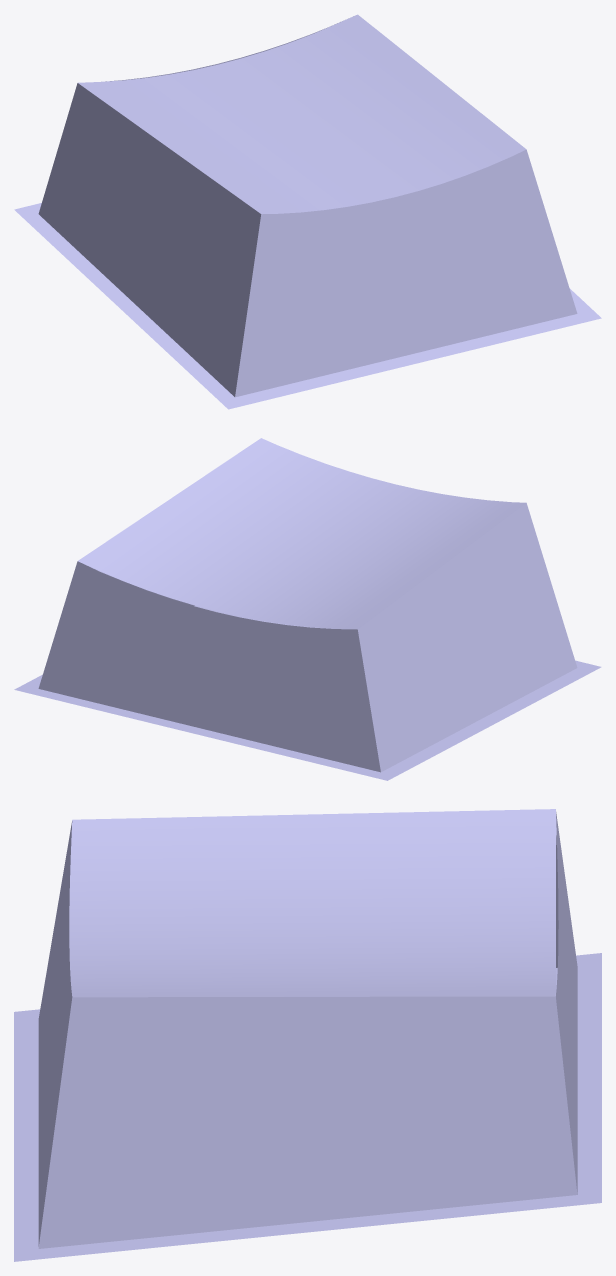
The model's file is original-68.obj.
The picture shows the model from 3 angles, top to bottom: view 1: azimuth 30°, elevation 25°; view 2: azimuth 150°, elevation 25°; view 3: azimuth 270°, elevation 25°; orthographic projection. The views are drawn at different scales.
Parts seen in each view (by area): view 1: kb_key3_13/kb_key3/mesh9/mesh9-geometry#mesh9-geometry; view 2: kb_key3_13/kb_key3/mesh9/mesh9-geometry#mesh9-geometry; view 3: kb_key3_13/kb_key3/mesh9/mesh9-geometry#mesh9-geometry.
Boxes of the visible parts, bbox=[...] form: kb_key3_13/kb_key3/mesh9/mesh9-geometry#mesh9-geometry: bbox=[14, 14, 601, 409]; kb_key3_13/kb_key3/mesh9/mesh9-geometry#mesh9-geometry: bbox=[14, 438, 601, 780]; kb_key3_13/kb_key3/mesh9/mesh9-geometry#mesh9-geometry: bbox=[14, 809, 601, 1261].
Bounding box in the file's own units: 0.0768 × 0.0336 × 0.0764.
